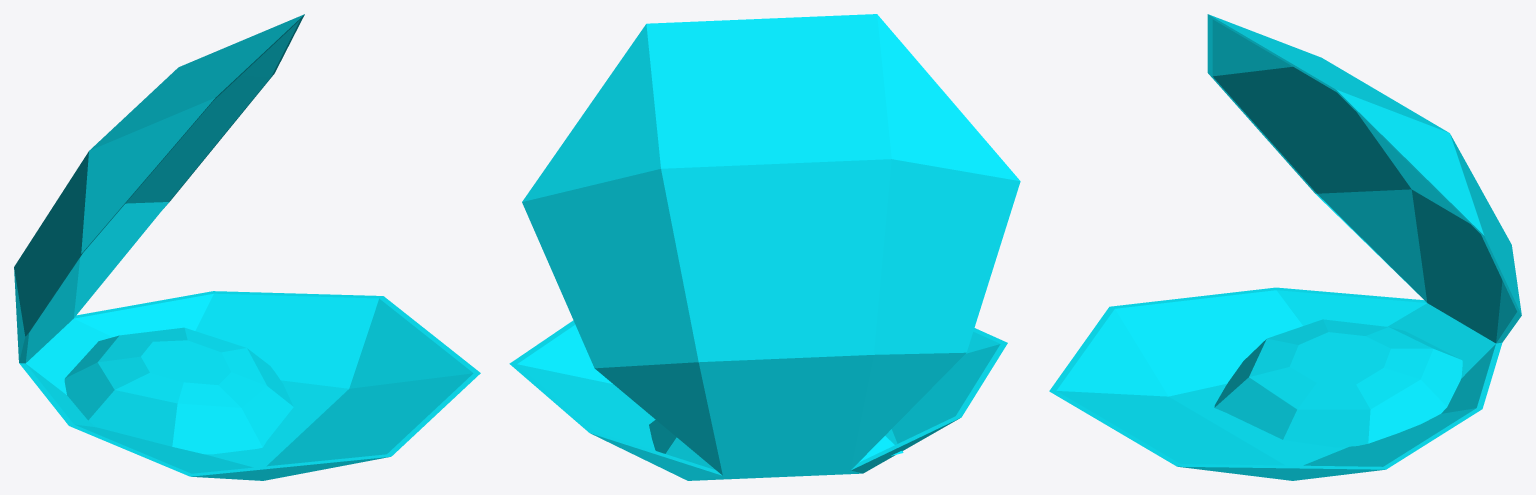
The model's file is Asset_RessBeach_Seafood.fbx.
The picture shows the model from 3 angles, left to right: view 1: azimuth 30°, elevation 25°; view 2: azimuth 150°, elevation 25°; view 3: azimuth 270°, elevation 25°; orthographic projection. The views are drawn at different scales.
Parts seen in each view (by area): view 1: PolySurface_Sea_shell_01; view 2: PolySurface_Sea_shell_01; view 3: PolySurface_Sea_shell_01.
Boxes of the visible parts, x1,y1,x2,y2 form: PolySurface_Sea_shell_01: (14,14,480,480); PolySurface_Sea_shell_01: (509,14,1020,480); PolySurface_Sea_shell_01: (1049,14,1521,480).
Bounding box in the file's own units: 41.99 × 38.19 × 43.22.
